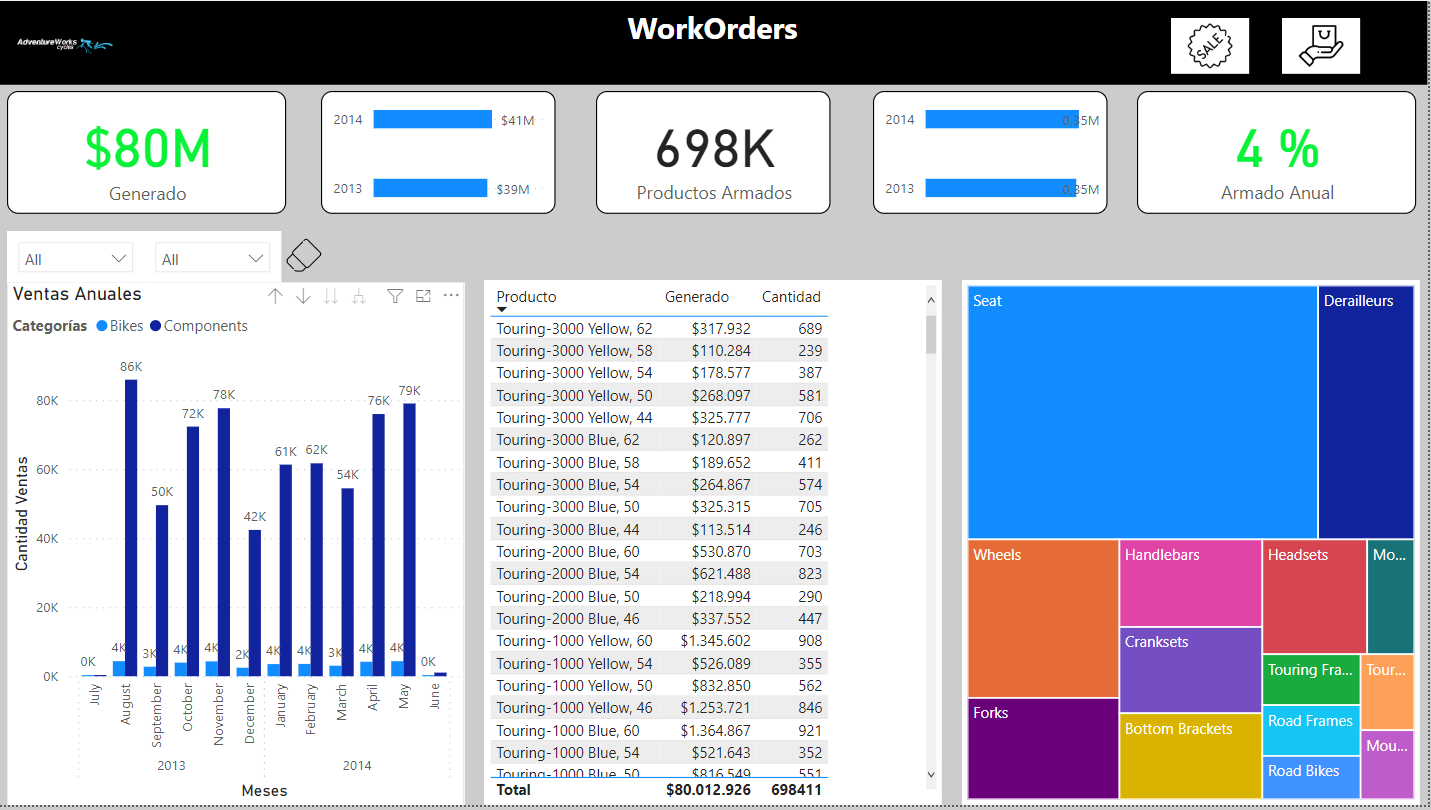

The dashboard page shown, as its layout file describes it:
{"tool":"powerbi","page":{"name":"WorkOrder","canvas":[1280,720],"ordinal":4},"visuals":[{"type":"textbox","box":[0,0,1279.7,75.2],"z":0},{"type":"image","box":[0,0,120,80],"z":1000},{"type":"card","fields":{"Values":["Total.PriceWork"]},"box":[7.7,80.5,250,110],"z":2000},{"type":"barChart","fields":{"Y":["Sum(WorkOrder.TotalPrice)"],"Category":["Calendar.SalesDate.Variation.Date Hierarchy.Year"]},"box":[289.3,80.6,209.6,110.1],"z":3000},{"type":"card","fields":{"Values":["Total.ProductWork"]},"box":[535.5,80.6,209.6,110.1],"z":4000},{"type":"barChart","fields":{"Category":["Calendar.SalesDate.Variation.Date Hierarchy.Year"],"Y":["Sum(WorkOrder.Quantity)"]},"box":[783.6,80.6,209.6,110.1],"z":5000},{"type":"card","fields":{"Values":["Total.PorcentajeWork"]},"box":[1020,80.5,250,110.2],"z":6000},{"type":"clusteredColumnChart","title":"Ventas Anuales","fields":{"Y":["Sum(WorkOrder.Quantity)"],"Series":["WorkOrder.Category.Name"],"Category":["Calendar.SalesDate.Variation.Date Hierarchy.Year","Calendar.SalesDate.Variation.Date Hierarchy.Month"]},"box":[7.7,252,410.1,468.5],"z":9000},{"type":"tableEx","fields":{"Values":["WorkOrder.Name","Sum(WorkOrder.TotalPrice)","Sum(WorkOrder.Quantity)"]},"box":[435,250.1,410.1,470.4],"z":10000},{"type":"image","box":[1150,15,69.9,50.1],"z":11000},{"type":"image","box":[1050,15,69.9,50.1],"z":12000},{"type":"treemap","fields":{"Group":["WorkOrder.SubCategory.Name"],"Values":["Sum(WorkOrder.Quantity)"]},"box":[863.2,250.1,410.1,470.4],"z":13000},{"type":"slicer","fields":{"Values":["Calendar.SalesDate.Variation.Date Hierarchy.Year"]},"box":[7.7,206,122.6,46],"z":13250},{"type":"slicer","fields":{"Values":["Calendar.SalesDate.Variation.Date Hierarchy.Month"]},"box":[130.3,206,122.6,46],"z":13500},{"type":"image","box":[253.4,204.2,41.2,45.7],"z":13501}]}

Visuals, with their boxes in screenshot pixels (x1, y1, x2, y2), scaled from the page's 1280x720 canvas onto the 1431x810 screenshot:
textbox: box(0, 0, 1430, 85)
image: box(0, 0, 134, 90)
card - Total.PriceWork: box(9, 91, 288, 214)
barChart - Sum(WorkOrder.TotalPrice) x Calendar.SalesDate.Variation.Date Hierarchy.Year: box(323, 91, 558, 215)
card - Total.ProductWork: box(599, 91, 833, 215)
barChart - Calendar.SalesDate.Variation.Date Hierarchy.Year x Sum(WorkOrder.Quantity): box(876, 91, 1110, 215)
card - Total.PorcentajeWork: box(1140, 91, 1420, 215)
"Ventas Anuales" clusteredColumnChart: box(9, 284, 467, 809)
tableEx - WorkOrder.Name x Sum(WorkOrder.TotalPrice): box(486, 281, 945, 809)
image: box(1286, 17, 1364, 73)
image: box(1174, 17, 1252, 73)
treemap - WorkOrder.SubCategory.Name x Sum(WorkOrder.Quantity): box(965, 281, 1424, 809)
slicer - Calendar.SalesDate.Variation.Date Hierarchy.Year: box(9, 232, 146, 284)
slicer - Calendar.SalesDate.Variation.Date Hierarchy.Month: box(146, 232, 283, 284)
image: box(283, 230, 329, 281)
